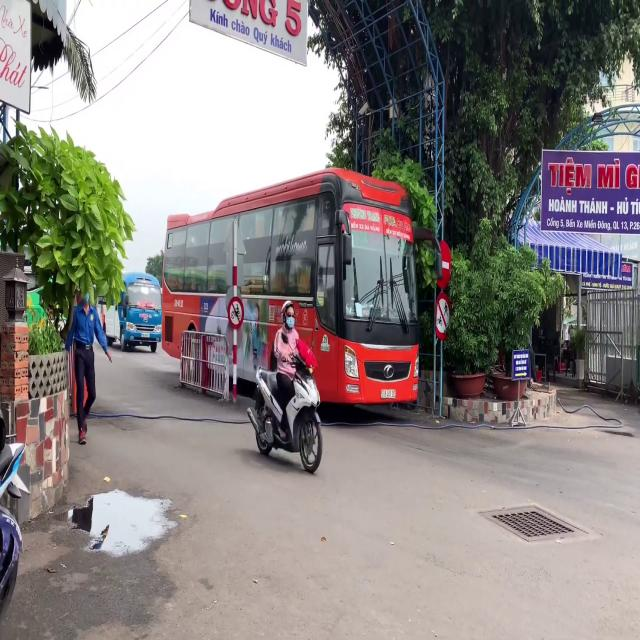bien_trang: (380, 389, 396, 399)
